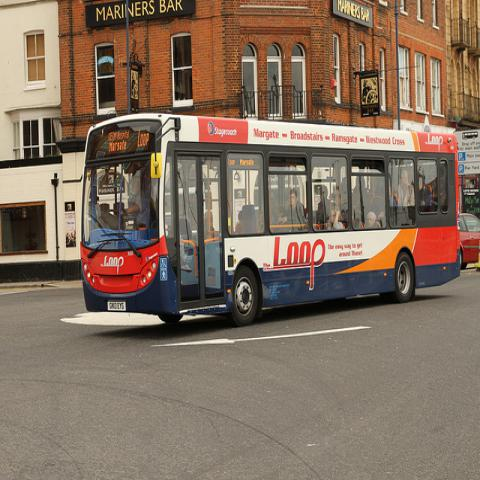bus: (79, 108, 463, 325)
car: (459, 210, 479, 272)
